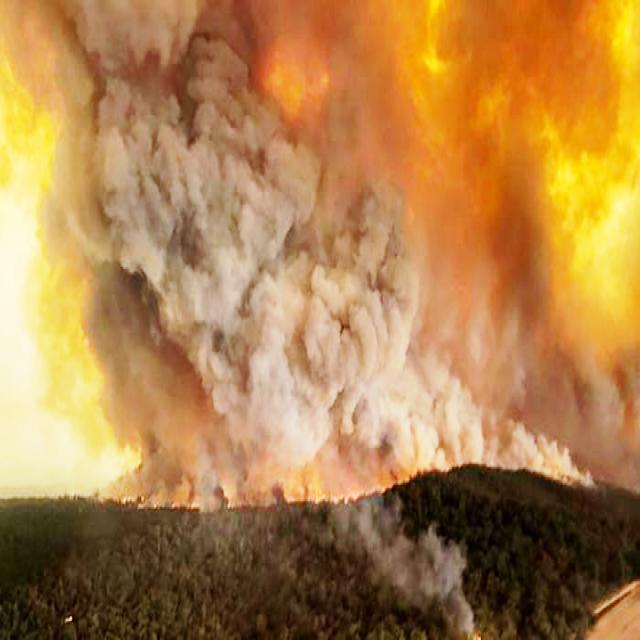asap: (3, 1, 640, 485), (364, 505, 483, 640)
